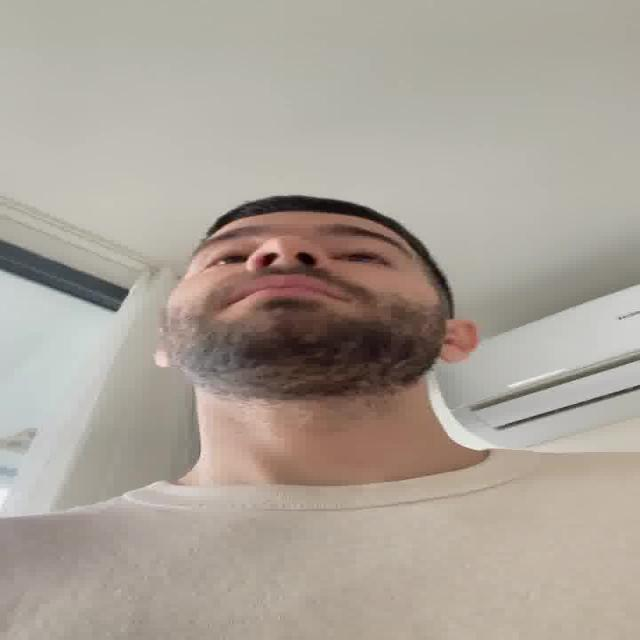earlobe: (436, 319, 479, 363)
